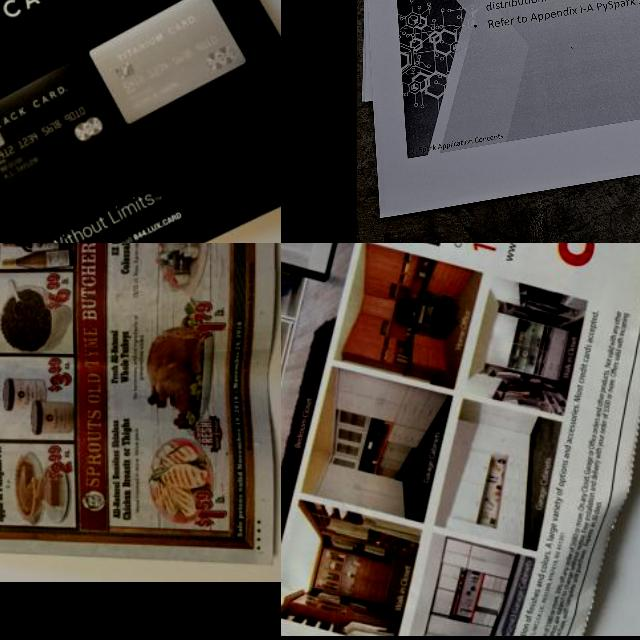papel: (281, 243, 640, 636), (0, 243, 281, 568), (0, 0, 281, 243), (360, 0, 640, 218)
